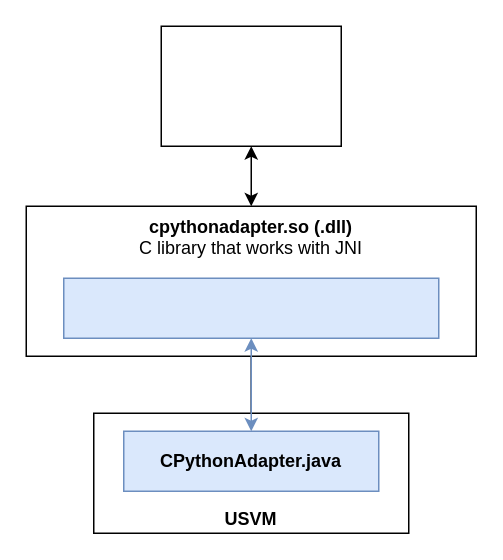
This 503x560 diagram has some shape labels left out. The shapes that lost their labels are listed below. From the top down, each one's centre as x and y in pixels, then its label:
pixel 250 85: Patched CPython as shared C library
pixel 250 307: org_usvm_interpreter_CPythonAdapter.c
